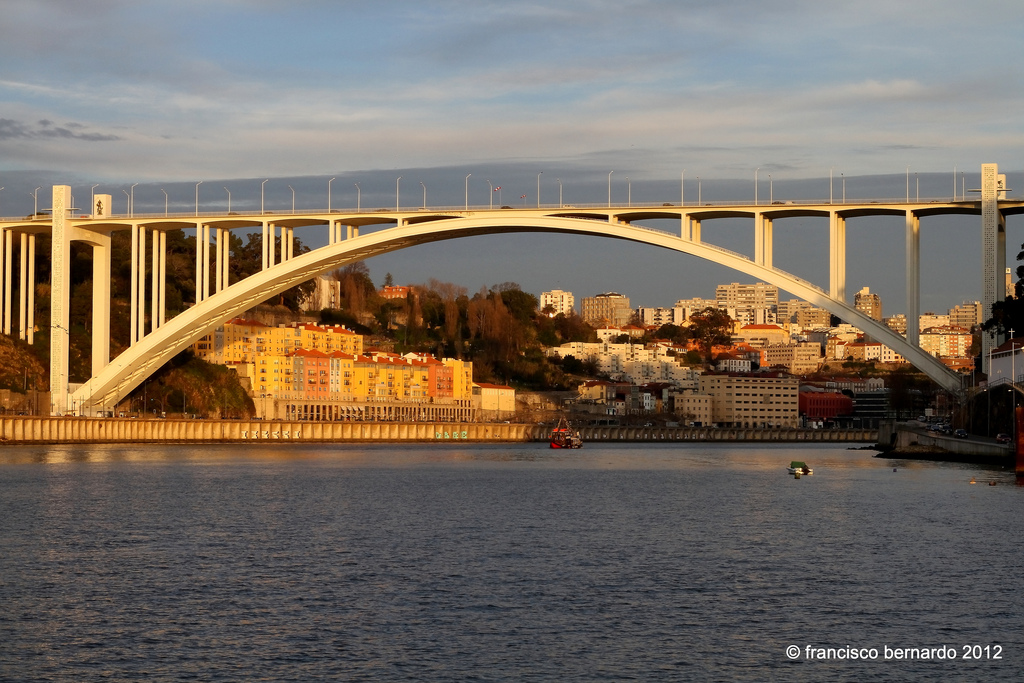arrabida: (0, 160, 1023, 418)
